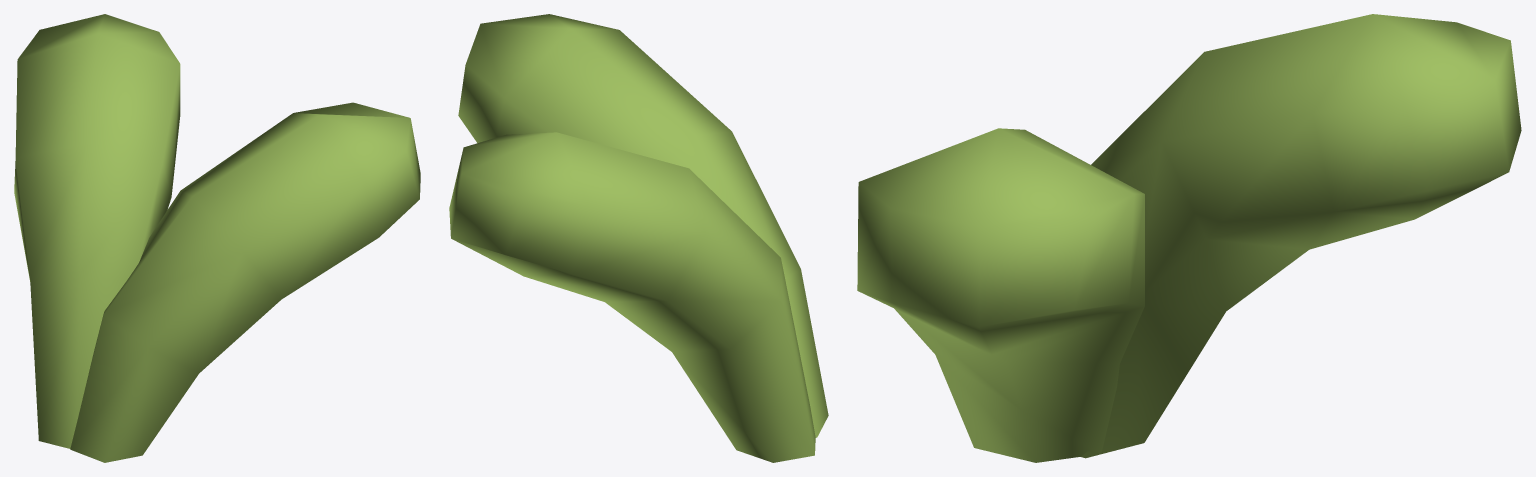
Rendered from SM_Grass_Tropical_Dark2.fbx.
The picture shows the model from 3 angles, left to right: view 1: azimuth 30°, elevation 25°; view 2: azimuth 150°, elevation 25°; view 3: azimuth 270°, elevation 25°; orthographic projection. The views are drawn at different scales.
Parts seen in each view (by area): view 1: SM_Grass_Tropical_Dark2; view 2: SM_Grass_Tropical_Dark2; view 3: SM_Grass_Tropical_Dark2.
Part boxes in pixels (x1,y1,x2,y2): SM_Grass_Tropical_Dark2: [14, 14, 420, 462]; SM_Grass_Tropical_Dark2: [449, 14, 828, 462]; SM_Grass_Tropical_Dark2: [857, 14, 1521, 462].
Bounding box in the file's own units: 0.35 × 0.3034 × 0.3678.
